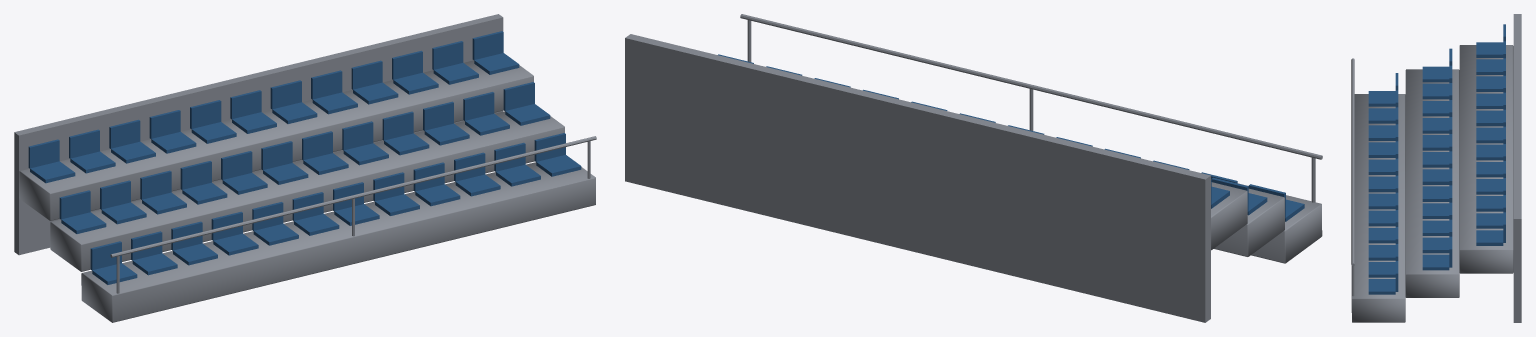
File: arquibancada-72-leve.glb
3 renders of one model, left to right at view 1: azimuth 30°, elevation 25°; view 2: azimuth 150°, elevation 25°; view 3: azimuth 270°, elevation 25°, orthographic. The views are drawn at different scales.
Parts seen in each view (by area): view 1: degrau, degrau.002, muro, degrau.001, corrimao, encosto.012, encosto.024, encosto.014, encosto.019, encosto.020, encosto.023, encosto.026 (+65 smaller); view 2: muro, corrimao, degrau.001, degrau, degrau.002; view 3: degrau.002, degrau.001, degrau, muro, corrimao, assento.005, assento.006, assento.007, assento.028, assento.029, assento.030, assento.012 (+29 smaller).
Part boxes in pixels (x1,y1,x2,y2): degrau: (81,162,595,322); degrau.002: (19,60,533,220); muro: (14,14,503,255); degrau.001: (50,111,564,271); corrimao: (110,136,596,257); encosto.012: (59,190,90,219); encosto.024: (28,139,59,168); encosto.014: (140,170,171,199); encosto.019: (342,121,373,150); encosto.020: (382,111,413,140); encosto.023: (503,82,534,110); encosto.026: (109,119,140,148); muro: (625,34,1210,322); corrimao: (740,14,1322,159); degrau.001: (1214,188,1284,256); degrau: (1238,183,1322,263); degrau.002: (1211,182,1247,250); degrau.002: (1459,45,1513,273); degrau.001: (1405,69,1459,297); degrau: (1351,94,1405,322); muro: (1513,14,1521,322); corrimao: (1351,58,1354,266); assento.005: (1368,176,1395,192); assento.006: (1368,193,1395,209); assento.007: (1368,210,1395,226); assento.028: (1476,110,1503,126); assento.029: (1476,127,1503,143); assento.030: (1476,144,1503,160); assento.012: (1422,66,1449,82).
Bounding box in the file's own units: 7.2 × 1.7 × 2.52.
